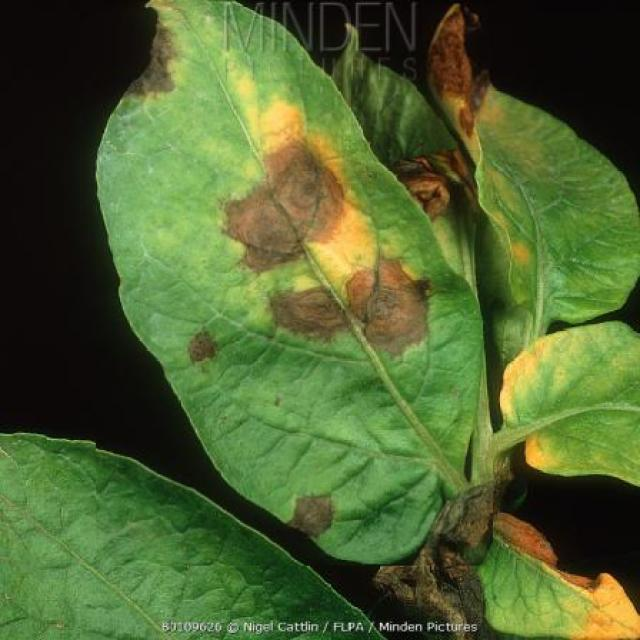Early Blight: (96, 1, 493, 566)
